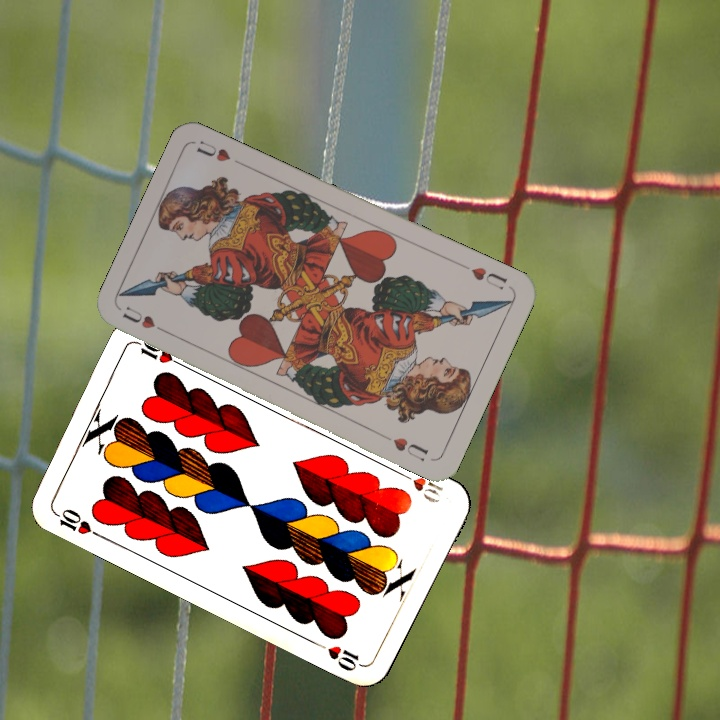H10: (49, 504, 104, 541), (394, 467, 446, 506)
HU: (118, 302, 173, 338), (466, 263, 510, 293)
